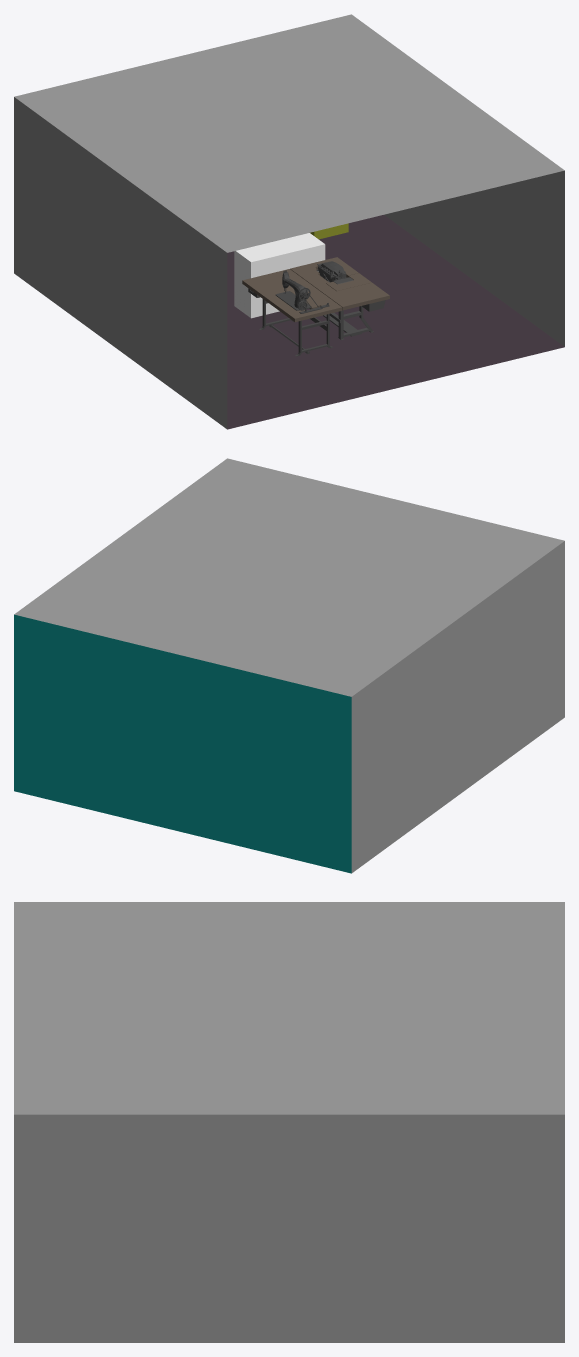
File: tailorshop.glb
The picture shows the model from 3 angles, top to bottom: view 1: azimuth 30°, elevation 25°; view 2: azimuth 150°, elevation 25°; view 3: azimuth 270°, elevation 25°; orthographic projection. The views are drawn at different scales.
Parts seen in each view (by area): view 1: room, singer-industrial, ironing-board, overlock; view 2: room; view 3: room.
Part boxes in pixels (x1,y1,x2,y2): room: (14, 14, 564, 429); singer-industrial: (242, 269, 342, 356); ironing-board: (234, 233, 325, 318); overlock: (290, 257, 389, 340); room: (14, 458, 564, 873); room: (14, 902, 564, 1342).
Size of the model in its own units: 5 by 2.51 by 5.47.
